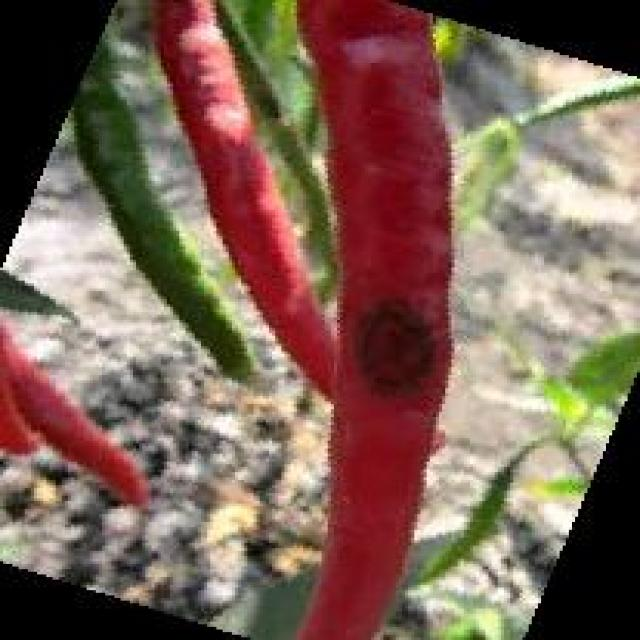Moko: (326, 281, 446, 419)
